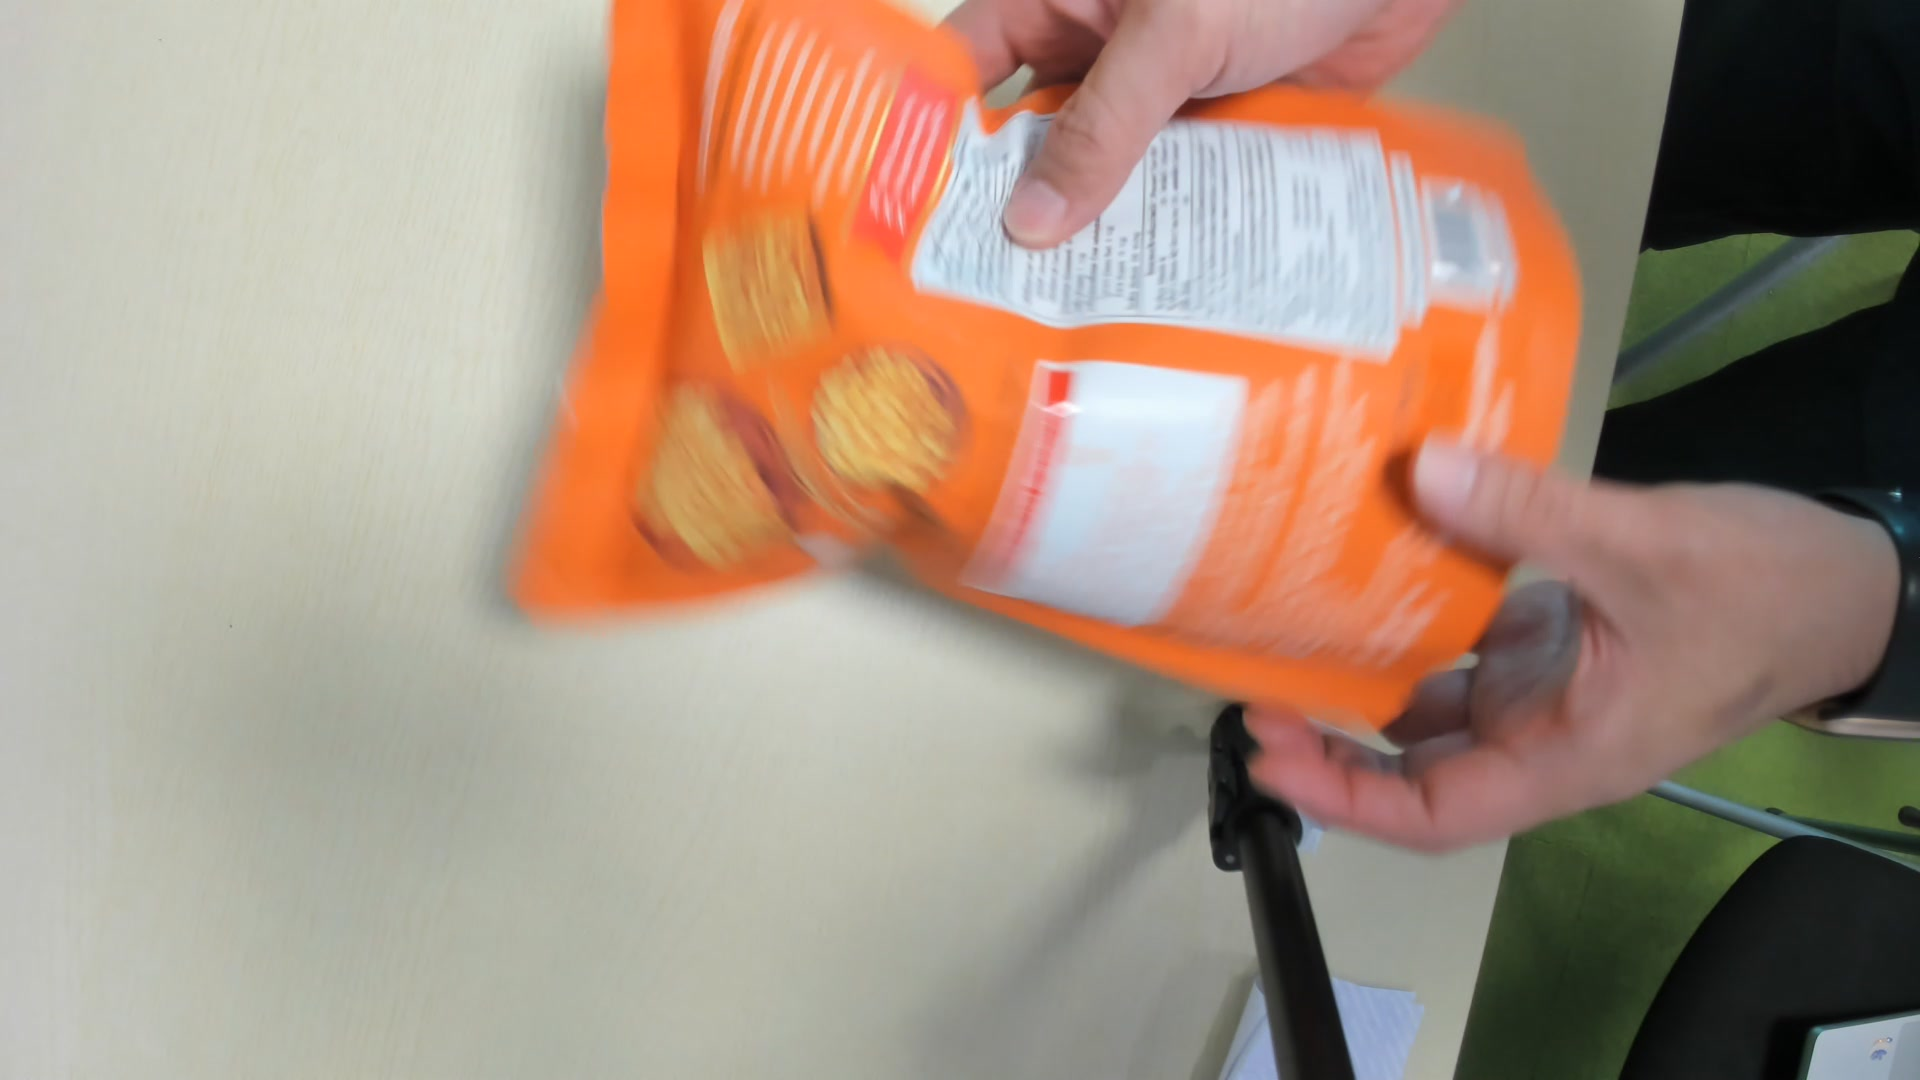PotatoChipsKeropok_0-99g_NonHalal_NonHealthy: (506, 8, 1580, 719)
